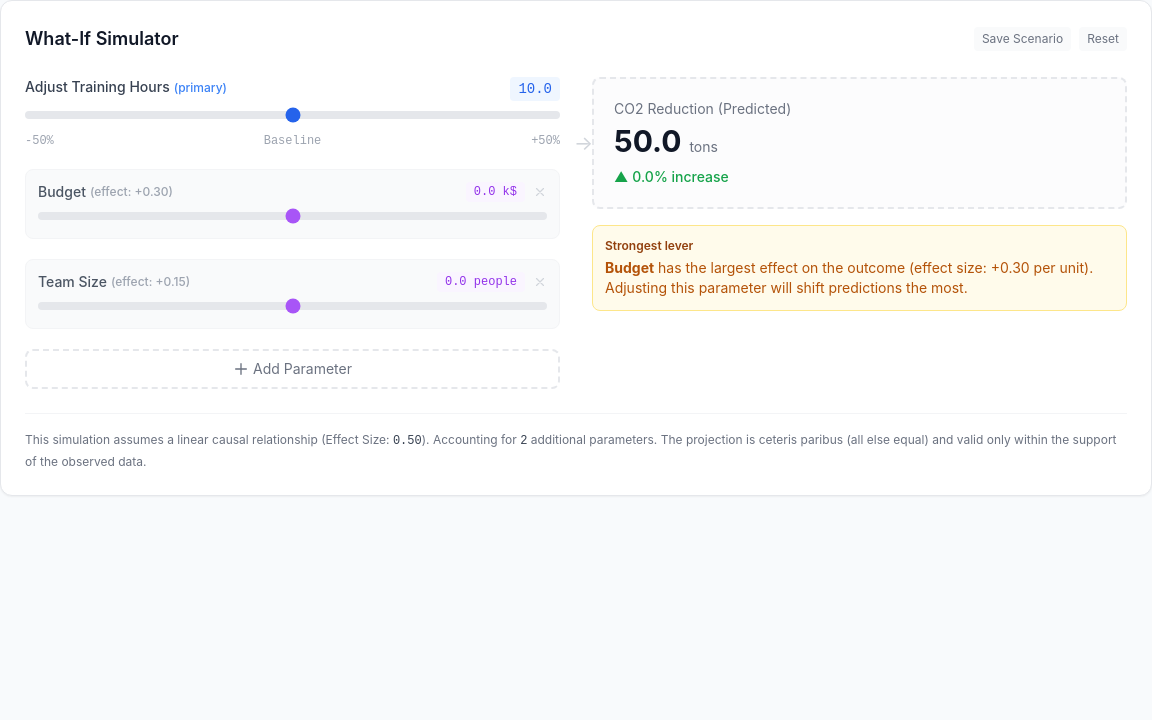
Test: InterventionSimulator › resets all sliders to baseline on reset
// Move slider away from baseline
Set the slider with test id "treatment-slider" to "15". click: (552, 115)
box: [25,111,560,119]
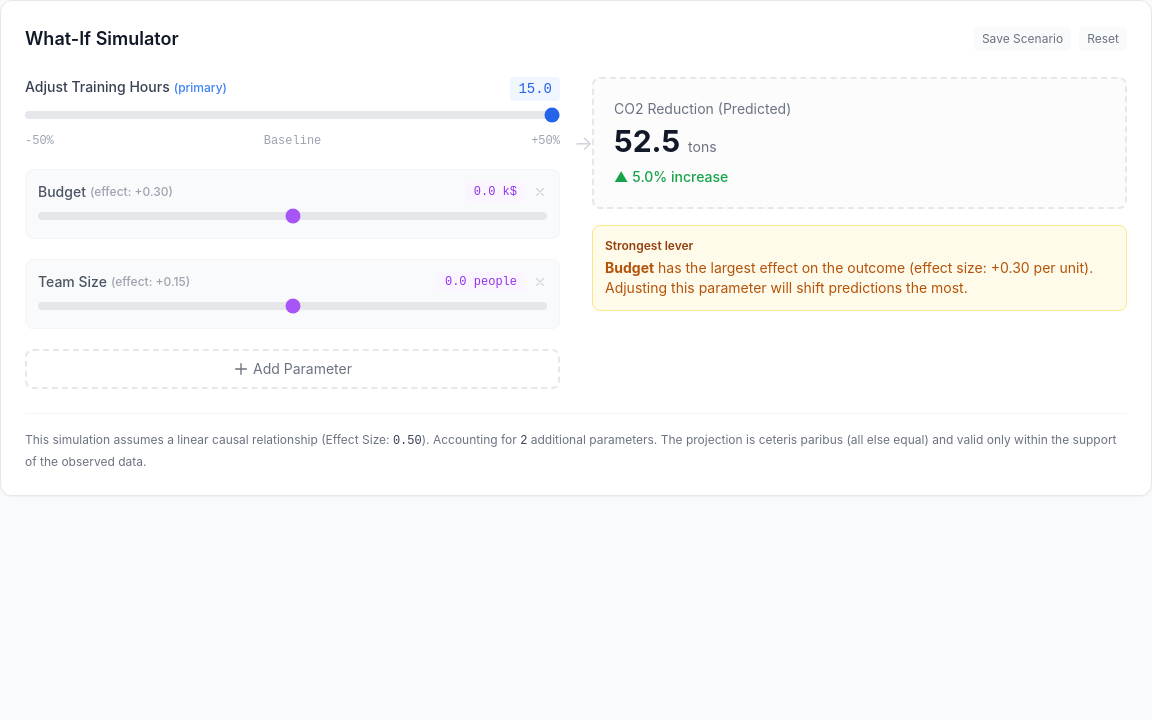
// Click reset
Click the button "Reset". click: (1103, 39)
box: [1079,27,1127,51]
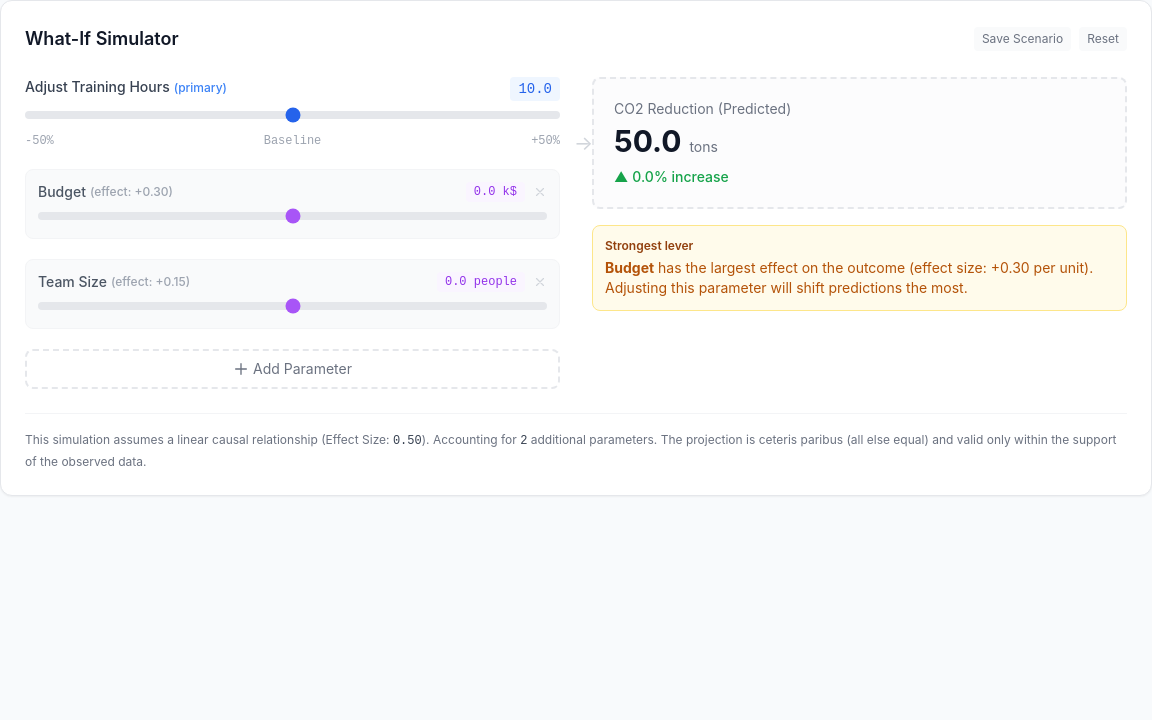
Check: the element with test id "predicted-outcome" shows "50.0", box [614,123,681,159]
